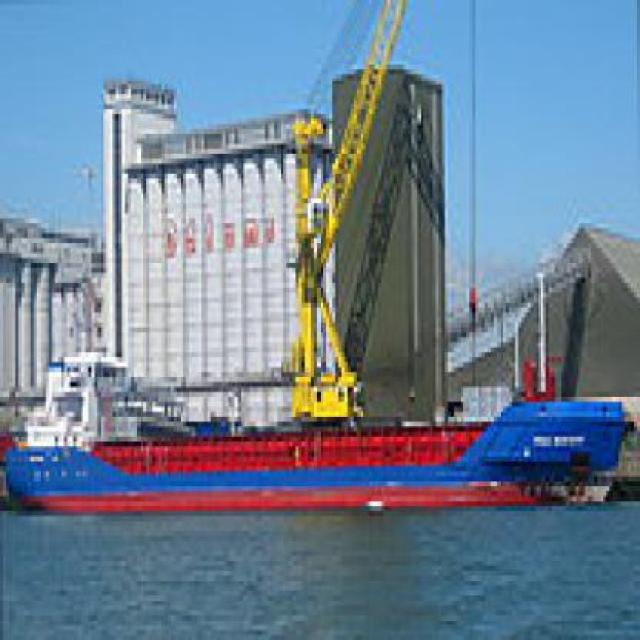container: (1, 338, 638, 532)
